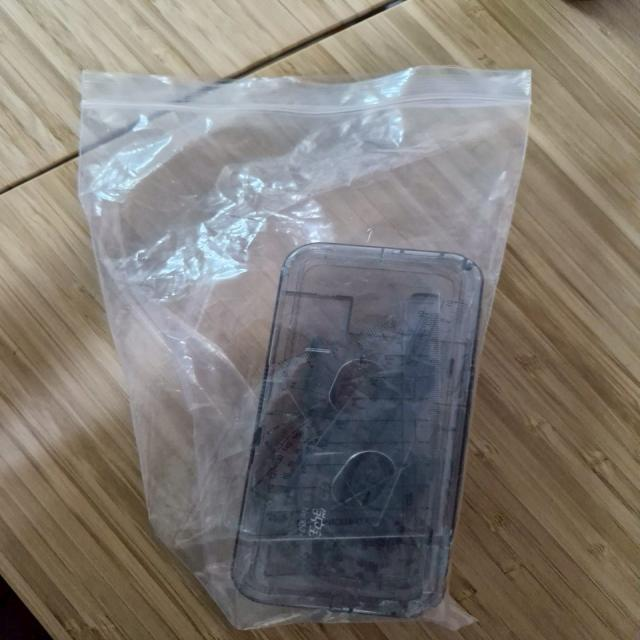plastic bag: (50, 55, 640, 640)
